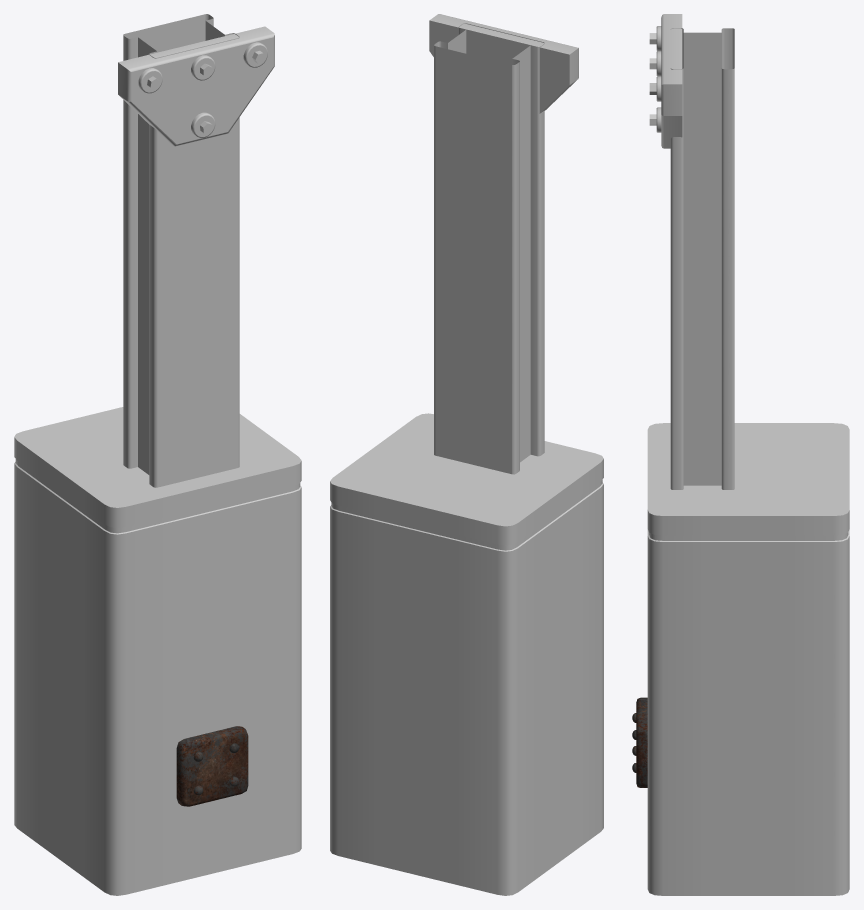
The model's file is SM_Kit_Colon_Concrete_X1.fbx.
The picture shows the model from 3 angles, left to right: view 1: azimuth 30°, elevation 25°; view 2: azimuth 150°, elevation 25°; view 3: azimuth 270°, elevation 25°; orthographic projection. The views are drawn at different scales.
Visible parts, largest first — view 1: SM_Kit_Colon_Concrete_X1_LOD0; view 2: SM_Kit_Colon_Concrete_X1_LOD0; view 3: SM_Kit_Colon_Concrete_X1_LOD0.
Part boxes in pixels (x1,y1,x2,y2): SM_Kit_Colon_Concrete_X1_LOD0: [14, 14, 301, 895]; SM_Kit_Colon_Concrete_X1_LOD0: [330, 14, 603, 895]; SM_Kit_Colon_Concrete_X1_LOD0: [632, 14, 849, 895].
Size of the model in its own units: 138 by 137 by 556.
4 materials, 1 textured.
